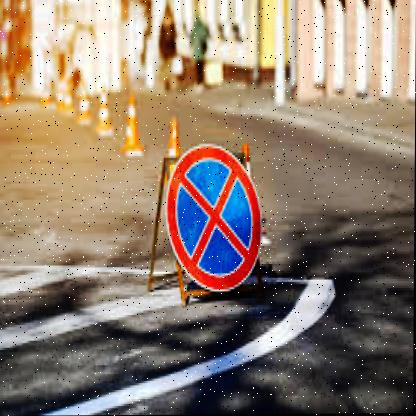No stopping: (168, 146, 261, 289)
